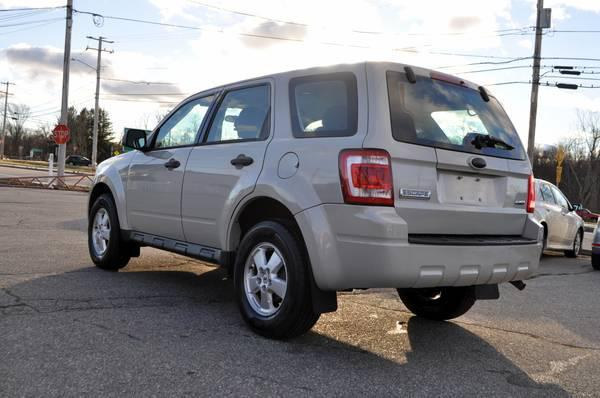Front_Fender: (89, 153, 135, 232)
Front_Left_Door: (125, 145, 194, 245)
Front_Left_Window: (144, 90, 223, 150)
Left_Taillight: (340, 146, 397, 206)
Rear_Bumper: (295, 204, 546, 290)
Rear_Fender: (256, 74, 357, 215)
Rear_Left_Door: (181, 141, 268, 252)
Rear_Left_Window: (200, 83, 274, 146)
Rear_Windshield: (391, 71, 528, 159)
Roof: (145, 60, 501, 151)
Tailgate: (390, 137, 533, 236)
Wheel: (230, 214, 322, 335), (85, 194, 133, 271), (391, 286, 476, 319)
